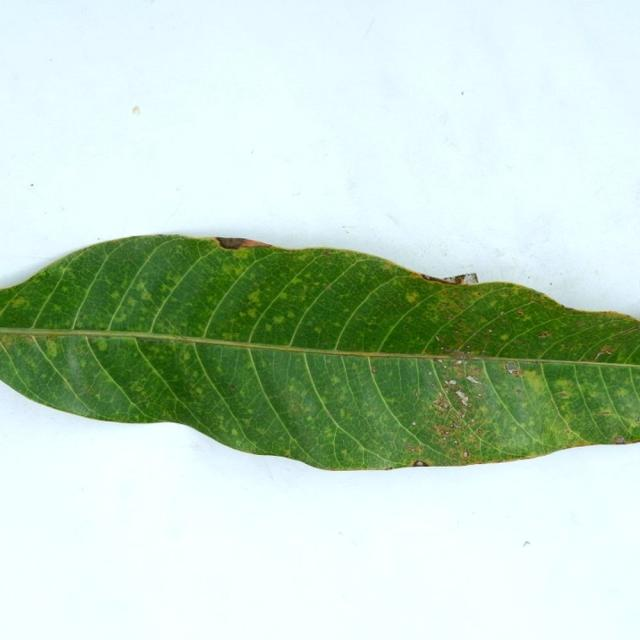Mango: (0, 235, 639, 470)
Powdery_Mildew: (148, 294, 208, 339), (520, 369, 551, 398), (0, 331, 36, 348), (242, 289, 267, 310), (552, 380, 577, 400), (433, 419, 457, 438), (463, 362, 484, 383), (593, 345, 614, 361), (446, 349, 469, 363), (45, 339, 59, 357), (275, 292, 293, 306), (434, 396, 451, 410), (9, 296, 27, 308), (514, 312, 532, 323), (405, 291, 419, 304), (125, 296, 140, 308), (135, 281, 149, 293), (96, 339, 108, 352), (1, 334, 15, 345), (45, 334, 60, 344), (536, 330, 552, 339), (615, 388, 629, 398), (594, 410, 614, 417), (140, 290, 152, 301), (256, 426, 269, 436), (131, 383, 143, 393), (272, 315, 285, 324), (246, 309, 258, 318), (51, 304, 63, 313), (330, 375, 340, 384), (160, 284, 170, 293), (515, 308, 526, 316), (110, 291, 119, 299), (288, 386, 297, 394), (284, 449, 293, 457), (499, 334, 509, 341), (339, 408, 346, 418), (341, 449, 349, 457), (264, 324, 273, 331), (313, 327, 322, 334), (286, 312, 295, 319), (445, 313, 455, 319), (195, 387, 203, 394), (231, 428, 238, 436), (247, 408, 255, 415), (324, 284, 332, 291), (306, 415, 313, 422), (515, 389, 523, 395), (370, 366, 376, 374), (475, 291, 482, 296), (229, 384, 235, 389)
